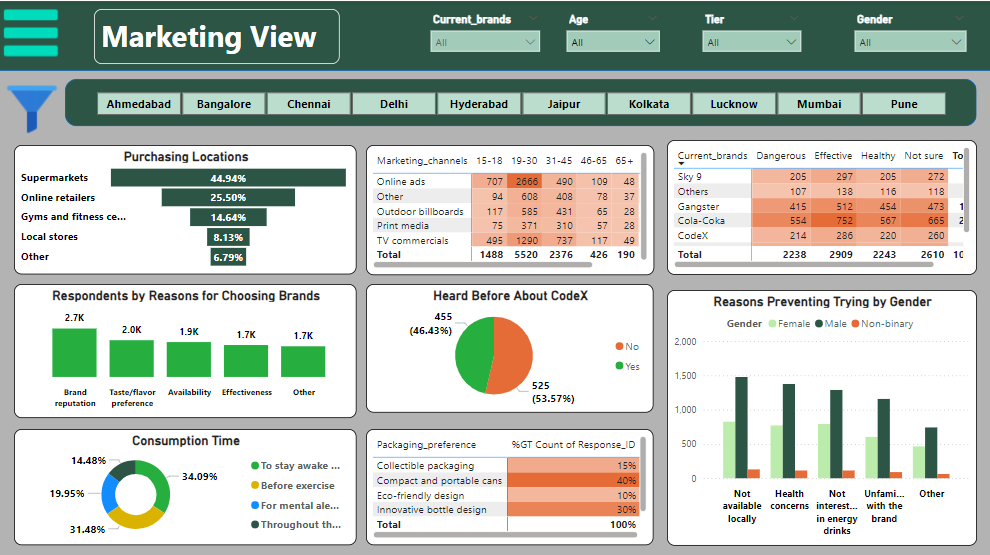

Layout of this report page (visuals, bound fields, positions):
{"tool":"powerbi","page":{"name":"Marketing  View","canvas":[1280,720],"ordinal":5},"visuals":[{"type":"funnel","title":"Purchasing Locations","fields":{"Category":["fact_survey_responses.Purchase_location"],"Y":["CountNonNull(fact_survey_responses.Response_ID)"]},"box":[19.8,185.7,442.2,167.2],"z":0},{"type":"pivotTable","fields":{"Rows":["fact_survey_responses.Marketing_channels"],"Columns":["dim_repondents.Age"],"Values":["CountNonNull(fact_survey_responses.Response_ID)"]},"box":[473.5,185.8,371.6,167.7],"z":1000},{"type":"pivotTable","fields":{"Rows":["fact_survey_responses.Current_brands"],"Columns":["fact_survey_responses.General_perception"],"Values":["CountNonNull(fact_survey_responses.Response_ID)"]},"box":[861.9,179.4,400,174.2],"z":2000},{"type":"columnChart","title":"Respondents by Reasons for Choosing Brands","fields":{"Y":["CountNonNull(fact_survey_responses.Response_ID)"],"Category":["fact_survey_responses.Reasons_for_choosing_brands"]},"box":[19.8,365.7,442.2,172.9],"z":3000},{"type":"pieChart","title":"Heard Before About CodeX","fields":{"Category":["fact_survey_responses.Heard_before"],"Y":["CountNonNull(fact_survey_responses.Response_ID)"]},"box":[473.4,365.7,371.3,165.8],"z":4000},{"type":"clusteredColumnChart","title":"Reasons Preventing Trying by Gender","fields":{"Category":["fact_survey_responses.Reasons_preventing_trying"],"Series":["dim_repondents.Gender"],"Y":["CountNonNull(fact_survey_responses.Response_ID)"]},"box":[861.7,372.8,399.7,330.2],"z":5000},{"type":"donutChart","title":"Consumption Time","fields":{"Category":["fact_survey_responses.Consume_time"],"Y":["CountNonNull(fact_survey_responses.Response_ID)"]},"box":[19.8,552.8,442.2,150.2],"z":6000},{"type":"pivotTable","fields":{"Values":["CountNonNull(fact_survey_responses.Response_ID)"],"Rows":["fact_survey_responses.Packaging_preference"]},"box":[473.4,552.8,371.3,150.2],"z":7000},{"type":"shape","box":[0,0,1280,89.9],"z":8000},{"type":"shape","box":[85,100.6,1176.4,60.9],"z":9000},{"type":"textbox","box":[122.7,10,316.8,71.3],"z":10000},{"type":"slicer","fields":{"Values":["dim_cities.City"]},"box":[100.6,110.6,1145.2,38.3],"z":11000},{"type":"slicer","fields":{"Values":["dim_repondents.Age"]},"box":[722.1,10,139.8,71.3],"z":12000},{"type":"slicer","fields":{"Values":["dim_cities.Tier"]},"box":[897.6,10,147,71.3],"z":13000},{"type":"slicer","fields":{"Values":["fact_survey_responses.Current_brands"]},"box":[546.5,10,161.2,71.3],"z":14000},{"type":"slicer","fields":{"Values":["dim_repondents.Gender"]},"box":[1094.5,10,164.1,71.3],"z":15000},{"type":"actionButton","title":"Clear filter","box":[0,92.1,85,93.5],"z":15500},{"type":"actionButton","title":"Menu open","box":[0,0,100.1,82.2],"z":16000}]}

Visuals, with their boxes in screenshot pixels (x1, y1, x2, y2), scaled from the page's 1280x720 canvas onto the 990x555 screenshot:
"Purchasing Locations" funnel: 15 143 357 272
pivotTable - fact_survey_responses.Marketing_channels x dim_repondents.Age: 366 143 654 272
pivotTable - fact_survey_responses.Current_brands x fact_survey_responses.General_perception: 667 138 976 273
"Respondents by Reasons for Choosing Brands" columnChart: 15 282 357 415
"Heard Before About CodeX" pieChart: 366 282 653 410
"Reasons Preventing Trying by Gender" clusteredColumnChart: 666 287 976 542
"Consumption Time" donutChart: 15 426 357 542
pivotTable - CountNonNull(fact_survey_responses.Response_ID) x fact_survey_responses.Packaging_preference: 366 426 653 542
shape: 0 0 989 69
shape: 66 78 976 124
textbox: 95 8 340 63
slicer - dim_cities.City: 78 85 964 115
slicer - dim_repondents.Age: 558 8 667 63
slicer - dim_cities.Tier: 694 8 808 63
slicer - fact_survey_responses.Current_brands: 423 8 547 63
slicer - dim_repondents.Gender: 847 8 973 63
"Clear filter" actionButton: 0 71 66 143
"Menu open" actionButton: 0 0 77 63
